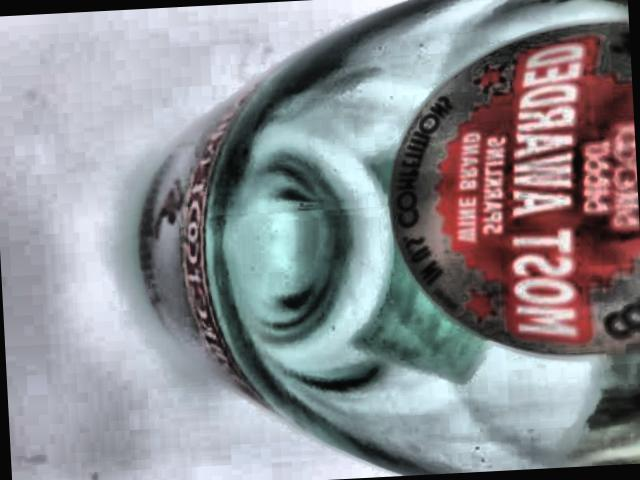Bottles: (99, 0, 640, 480)
